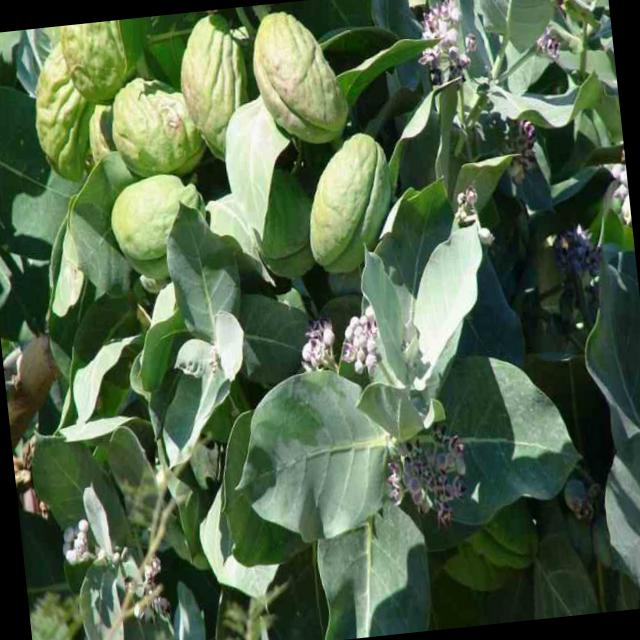Poisonous-Calatropis: (23, 0, 437, 311), (248, 258, 504, 602), (24, 406, 297, 640), (411, 0, 633, 260)
